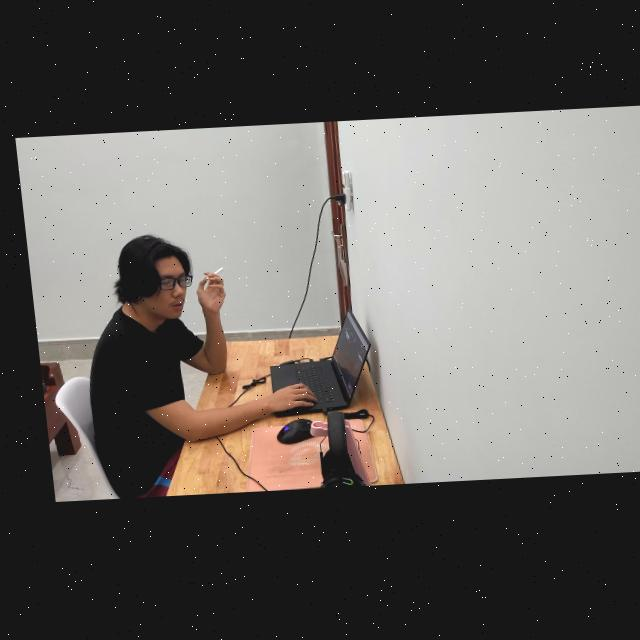cigarette: (198, 269, 218, 282)
